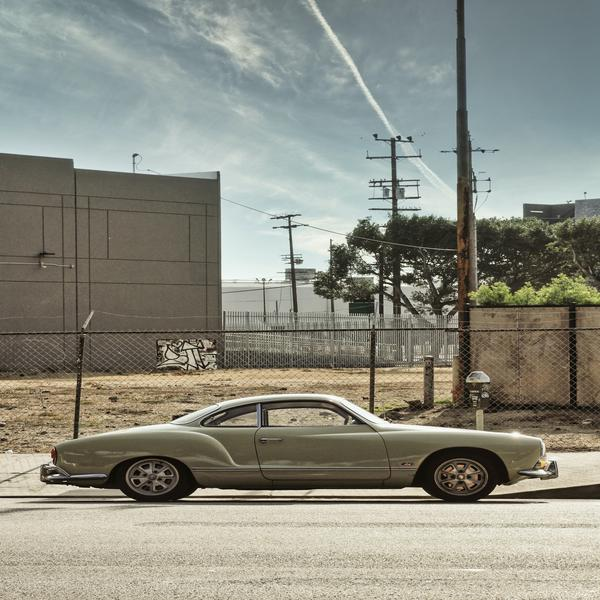utility_pole: (358, 125, 426, 216), (438, 122, 503, 199), (265, 204, 313, 245)
